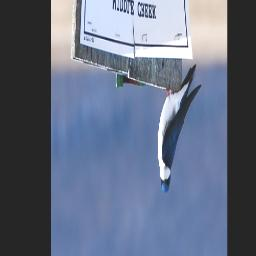Swallow: (157, 65, 201, 196)
